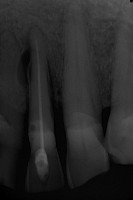Dental Caries: (17, 25, 44, 88)
